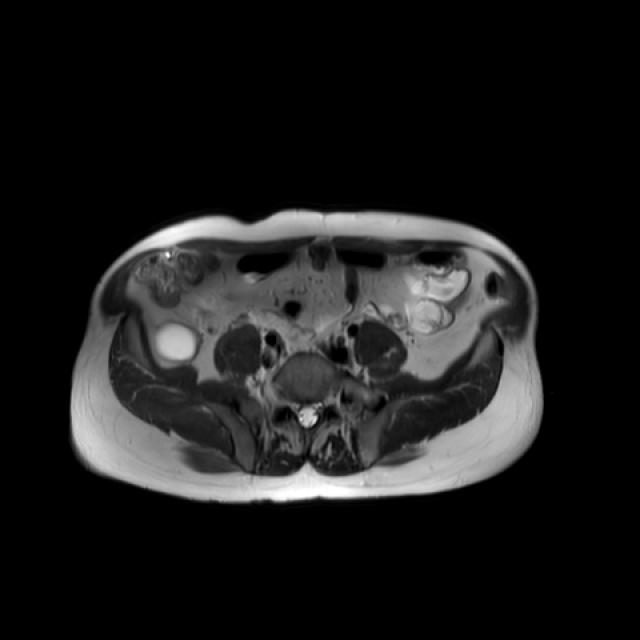sag: (153, 319, 203, 364)
